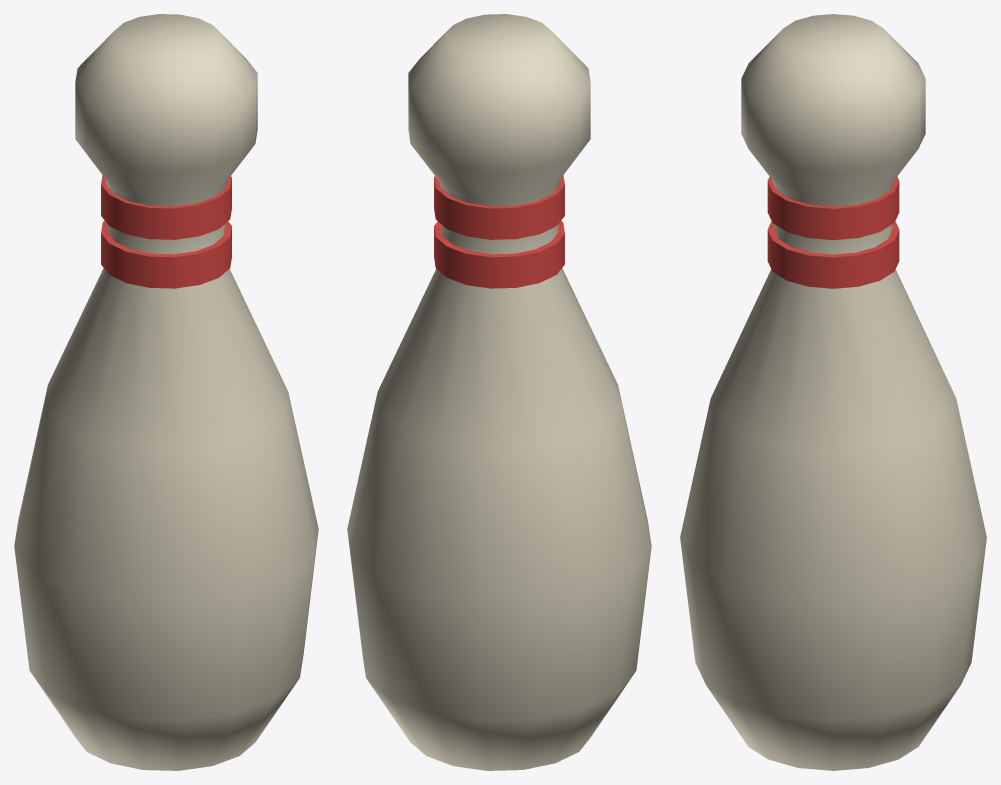
Rendered from BowlingPin.glb.
The picture shows the model from 3 angles, left to right: view 1: azimuth 30°, elevation 25°; view 2: azimuth 150°, elevation 25°; view 3: azimuth 270°, elevation 25°; orthographic projection.
Visible parts, largest first — view 1: PinBody, RedStripe (×2); view 2: PinBody, RedStripe (×2); view 3: PinBody, RedStripe (×2).
Boxes of the visible parts, box(x1,y1,x2,y2) form: PinBody: box(14, 14, 318, 770); RedStripe (×2): box(101, 175, 231, 288); PinBody: box(347, 14, 651, 770); RedStripe (×2): box(434, 175, 564, 288); PinBody: box(680, 14, 986, 770); RedStripe (×2): box(767, 176, 899, 288).
Bounding box in the file's own units: 0.3999 × 1 × 0.3999.
